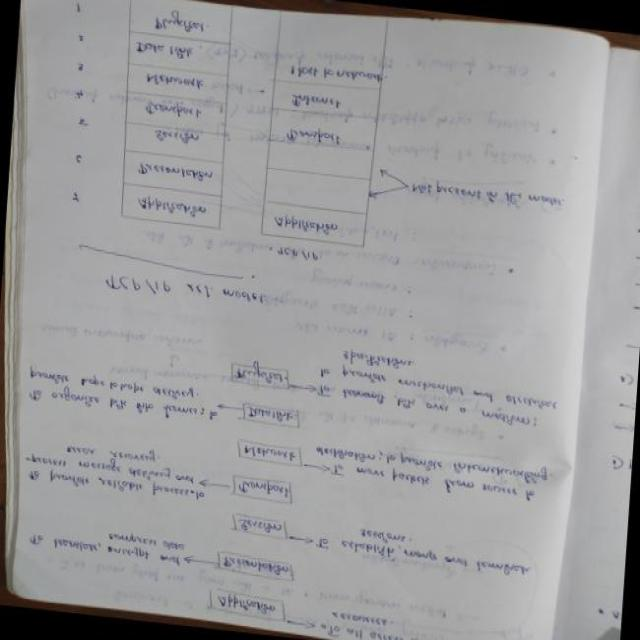Figure Detection - v3 Dataset Version2: (53, 0, 582, 297)
